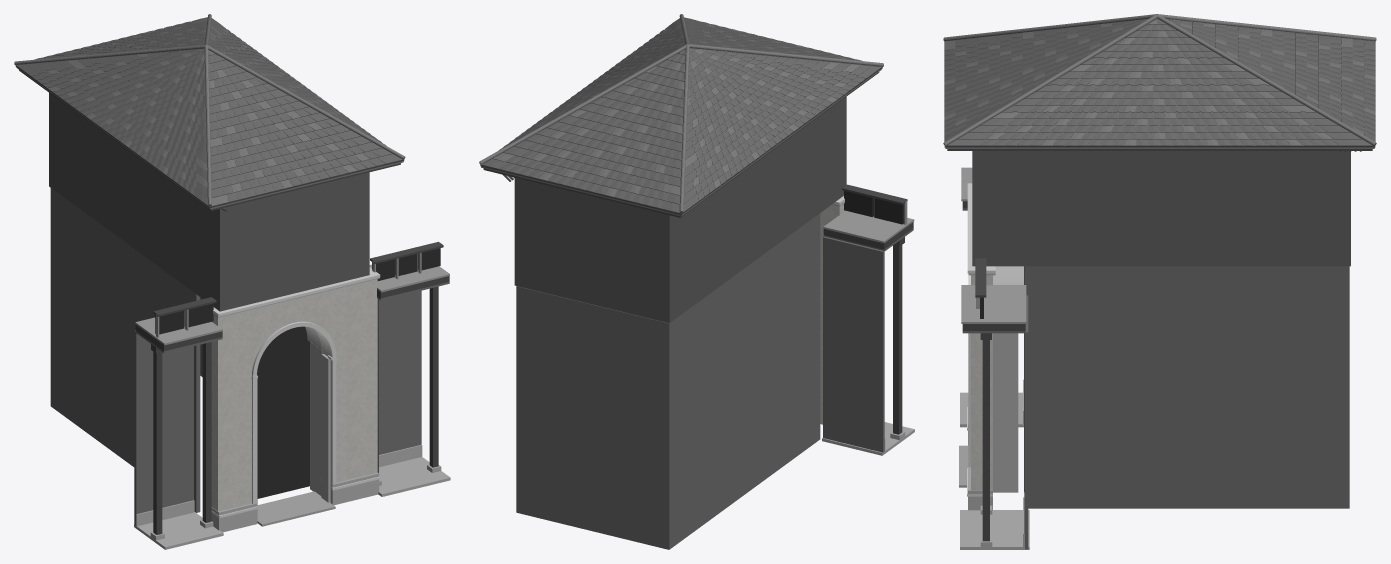
Rendered from yangpu-national-music-school-1936-arched-portico-web.glb.
3 renders of one model, left to right at view 1: azimuth 30°, elevation 25°; view 2: azimuth 150°, elevation 25°; view 3: azimuth 270°, elevation 25°, orthographic. The views are drawn at different scales.
Parts seen in each view (by area): view 1: 国立音乐专科学校正校舍中央券门与四坡顶（1936年特刊）; view 2: 国立音乐专科学校正校舍中央券门与四坡顶（1936年特刊）; view 3: 国立音乐专科学校正校舍中央券门与四坡顶（1936年特刊）.
Part boxes in pixels (bbox=[...]): 国立音乐专科学校正校舍中央券门与四坡顶（1936年特刊）: bbox=[14, 14, 450, 549]; 国立音乐专科学校正校舍中央券门与四坡顶（1936年特刊）: bbox=[479, 14, 914, 549]; 国立音乐专科学校正校舍中央券门与四坡顶（1936年特刊）: bbox=[943, 14, 1376, 549].
Size of the model in its own units: 9.97 by 13.63 by 11.83.
13 materials, 1 textured.
